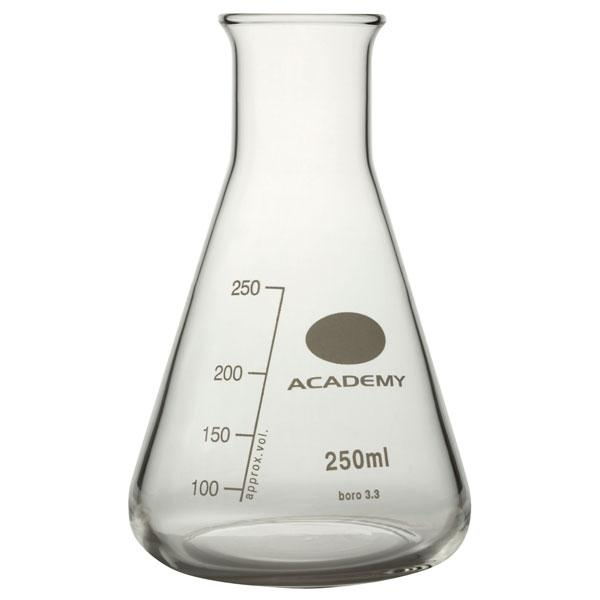Titrarion: (132, 8, 473, 587)
